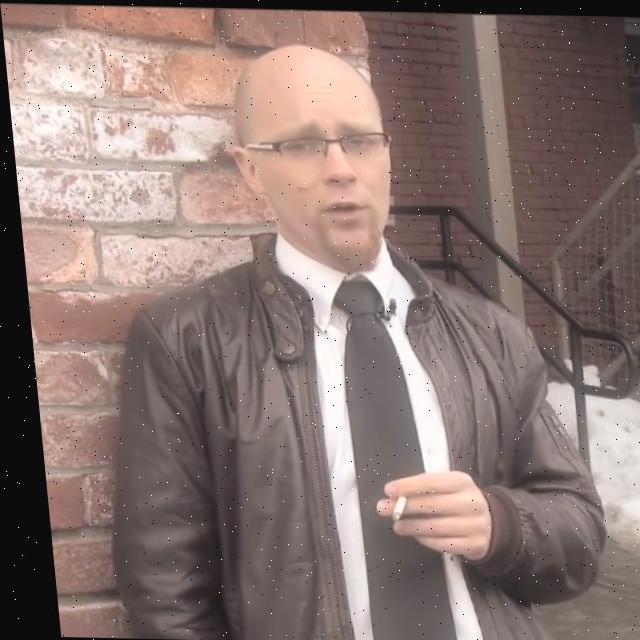cigarette: (380, 495, 400, 519)
